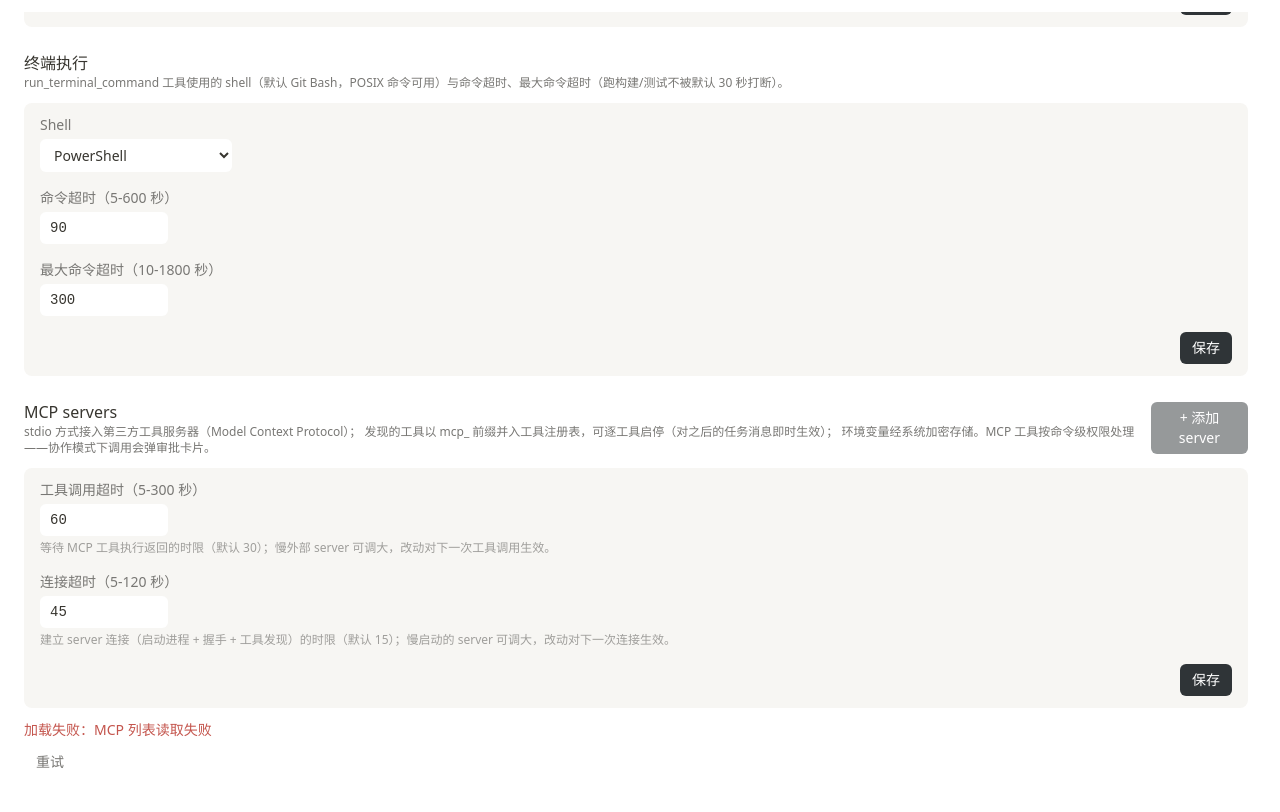
Test case: SettingsPage 初始读取失败与重试 › F22 MCP 列表：初读失败可重试，未读成功不能添加配置
(page scrolled)
Expected: the text "加载失败：MCP 列表读取失败" is shown, top-left (24, 720), bottom-right (212, 739)
Expected: the button with test id "mcp-add-server" is disabled, top-left (1151, 402), bottom-right (1248, 454)
Click the button with test id "mcp-settings-retry" at (50, 762), box top-left (24, 748), bottom-right (76, 776)
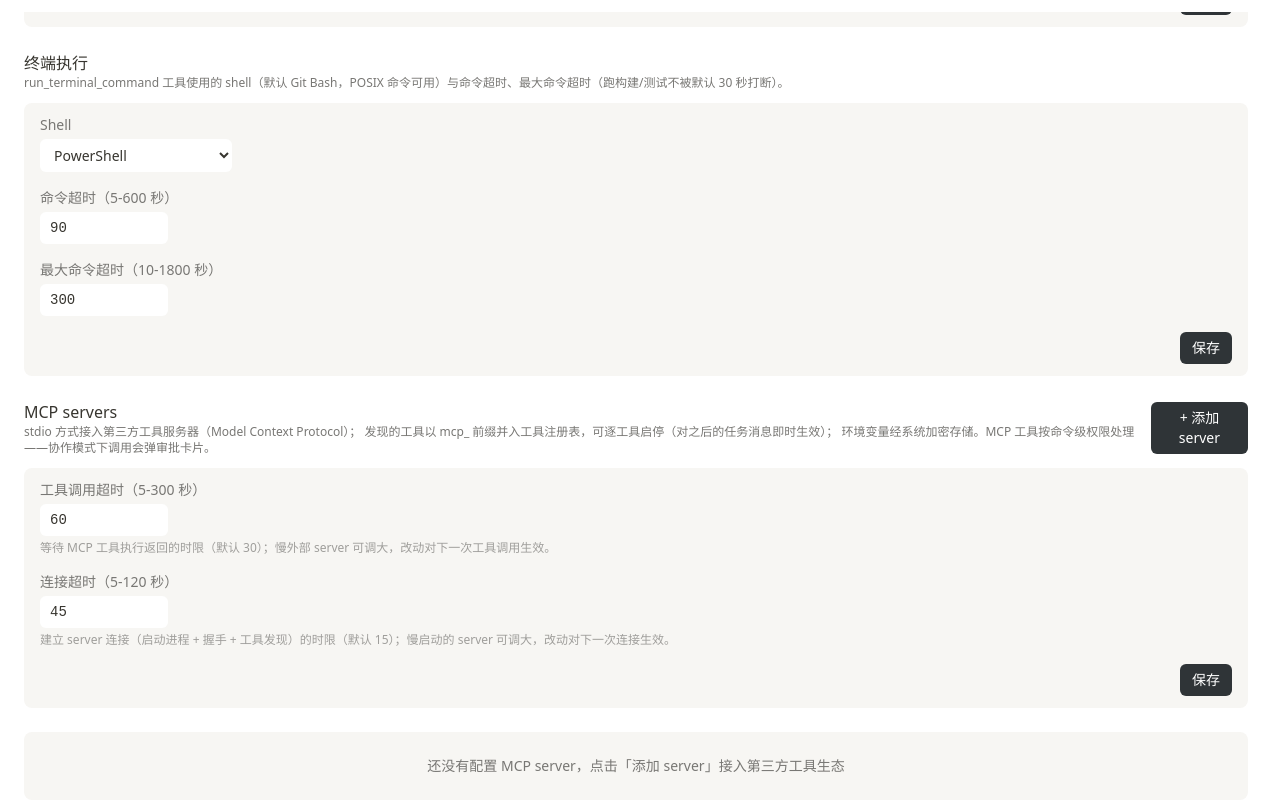
Expected: the button with test id "mcp-add-server" is enabled
Expected: the text "MCP 列表读取失败" is gone
Click the button with test id "mcp-add-server" at (1199, 428), box top-left (1151, 402), bottom-right (1248, 454)
(page scrolled)
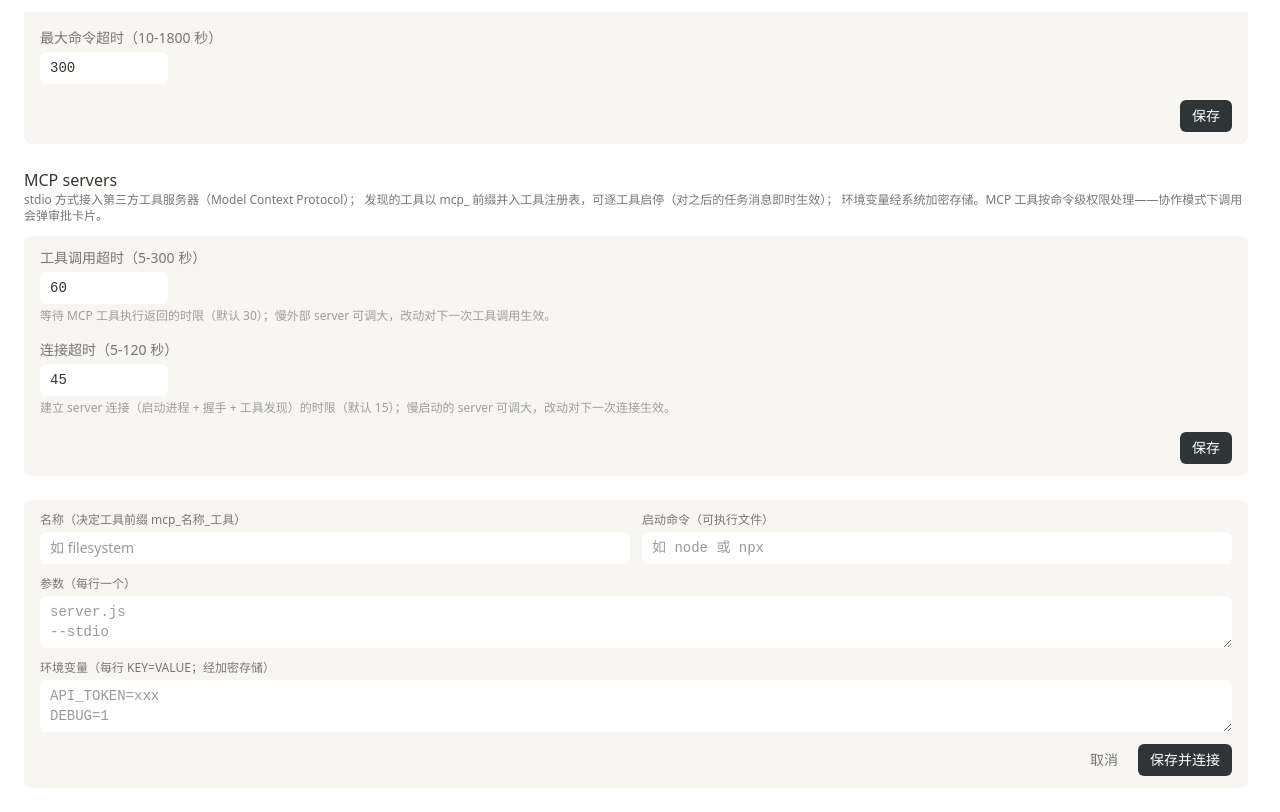
Expected: the element with test id "mcp-server-form" is shown, top-left (24, 500), bottom-right (1248, 788)
